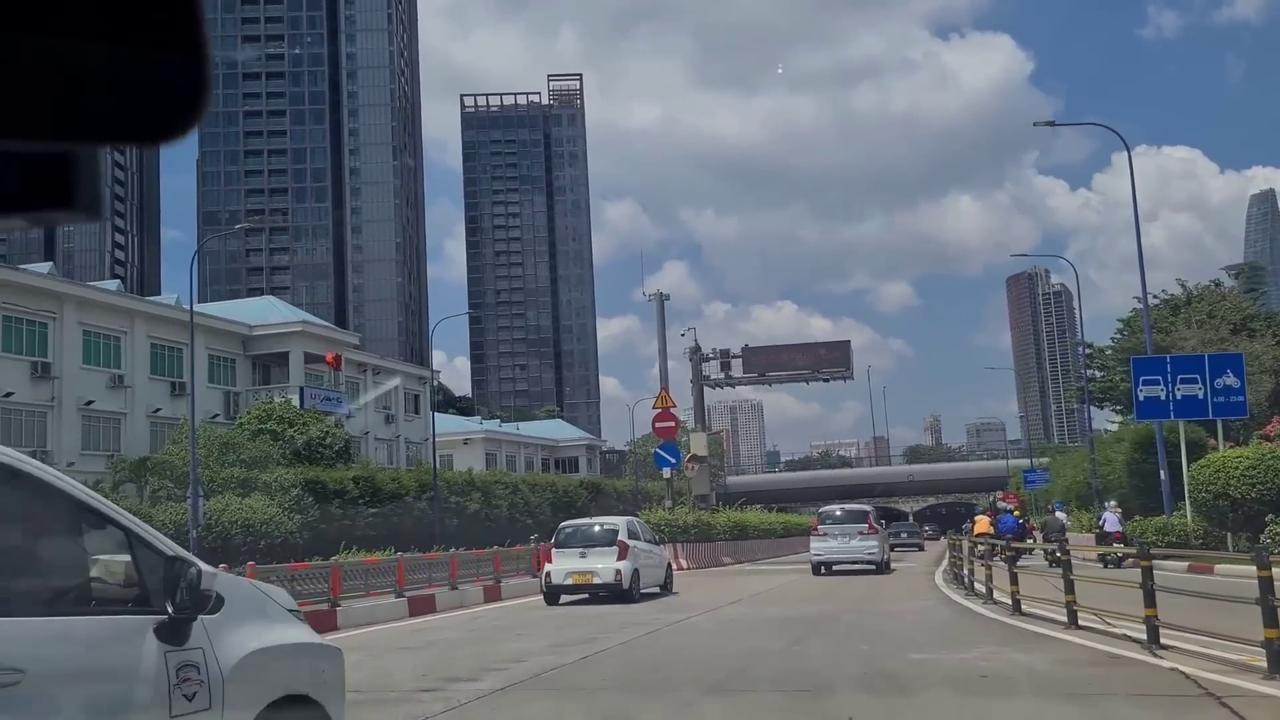Cấm đi ngược chiều: (651, 408, 681, 440)
Hướng phải đi vòng sang phải: (652, 440, 683, 471)
Làn đường cho từng xe: (1129, 353, 1249, 421)
Đuờng hẹp: (652, 386, 678, 408)
